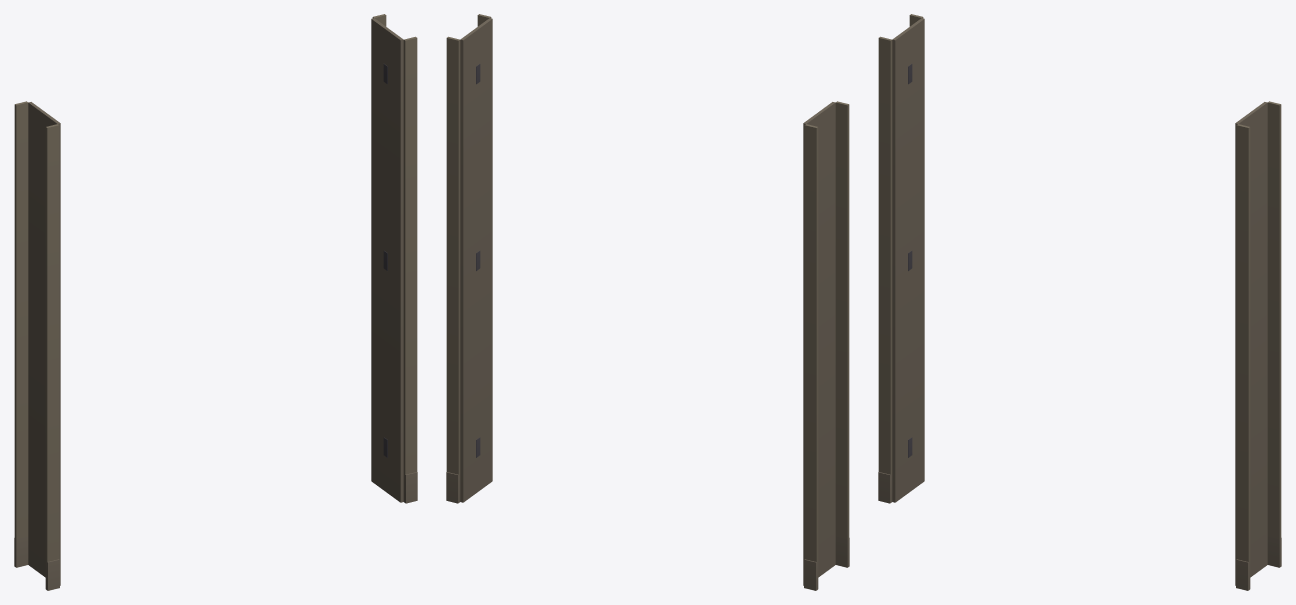
Rendered from door_frame.glb.
3 renders of one model, left to right at view 1: azimuth 30°, elevation 25°; view 2: azimuth 150°, elevation 25°; view 3: azimuth 330°, elevation 25°, orthographic.
Visible parts, largest first — view 1: door_frame; view 2: door_frame; view 3: door_frame.
Boxes of the visible parts, x1,y1,x2,y2 form: door_frame: [14, 14, 417, 590]; door_frame: [446, 14, 849, 590]; door_frame: [878, 14, 1281, 590].
Bounding box in the file's own units: 2.18 × 2.6 × 0.344.
